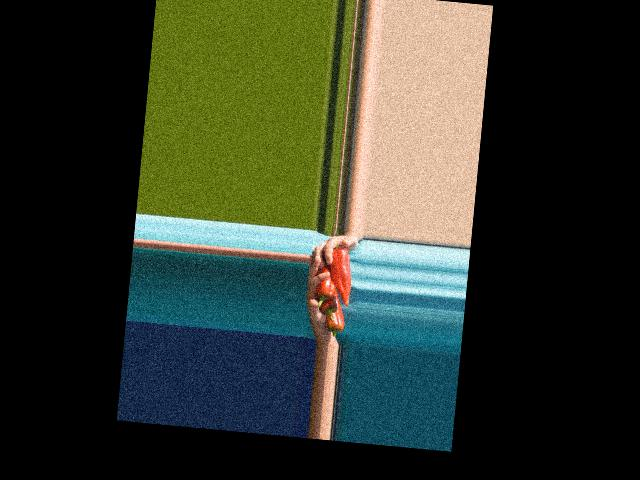bell_pepper: (323, 298, 346, 337)
